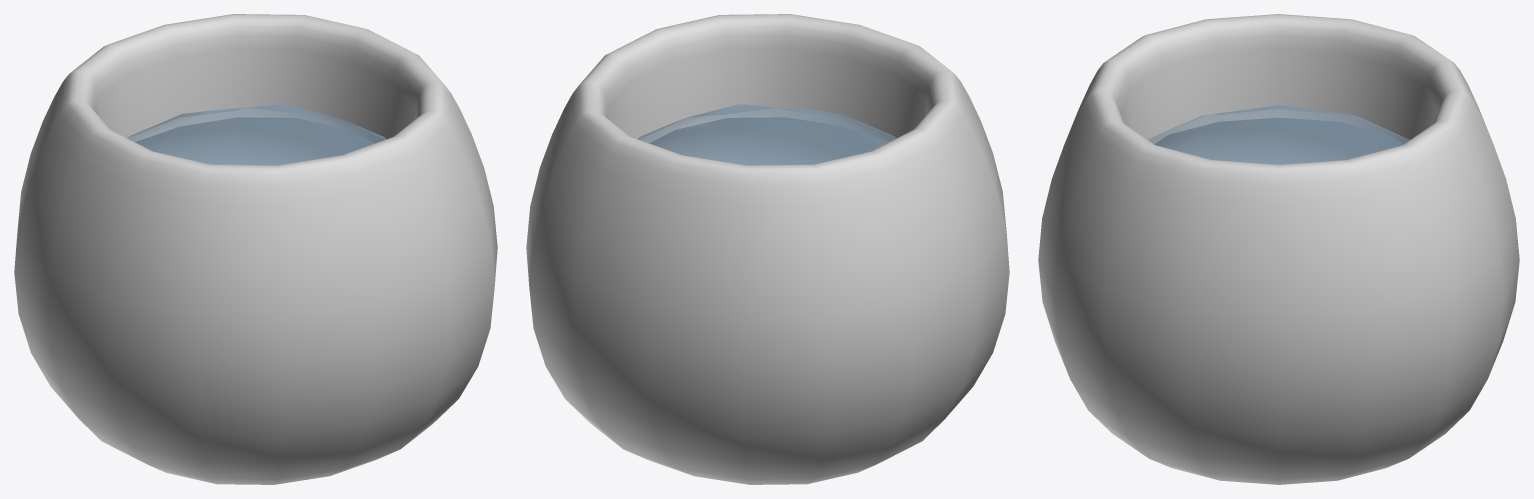
File: fish-bowl.glb
The picture shows the model from 3 angles, left to right: view 1: azimuth 30°, elevation 25°; view 2: azimuth 150°, elevation 25°; view 3: azimuth 270°, elevation 25°; orthographic projection.
Parts seen in each view (by area): view 1: fish-bowl; view 2: fish-bowl; view 3: fish-bowl.
Boxes of the visible parts, x1=… form: fish-bowl: x1=14, y1=14, x2=497, y2=484; fish-bowl: x1=526, y1=14, x2=1009, y2=484; fish-bowl: x1=1038, y1=14, x2=1519, y2=484.
Size of the model in its own units: 1.05 by 0.8485 by 1.05.
